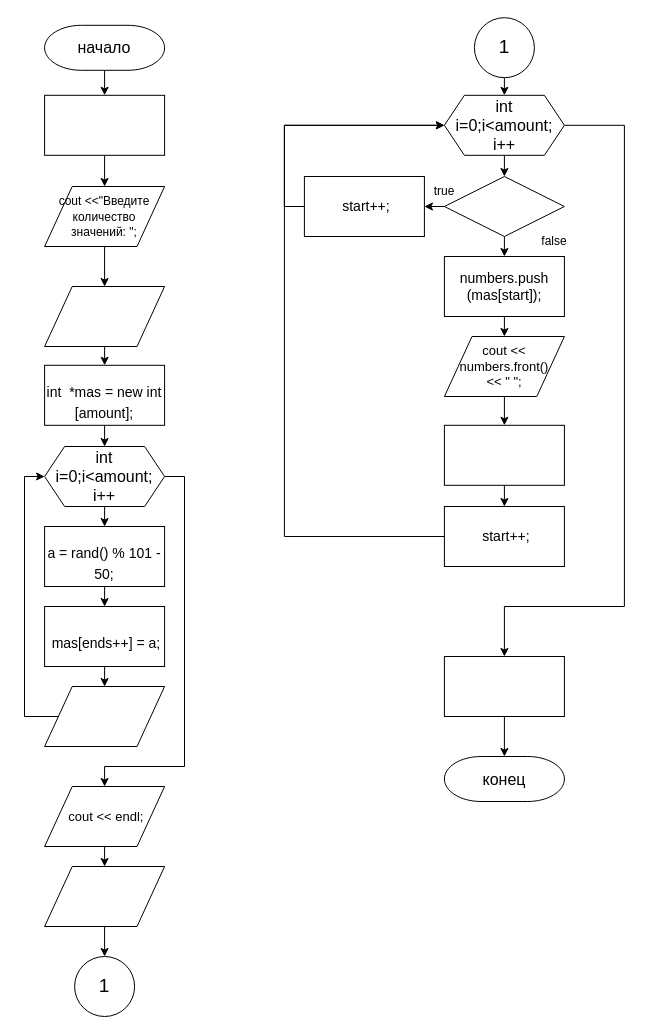
Image size: 650x1034. Some labels were removed from this diagram. The shapes that lost their labels are listed below. From the top down, each one's box as (x1, y1, x2, y2) in pixels, then its label:
(44, 94, 165, 155): srand(time(NULL)); queue <int> numbers; int amount, a, start = 0, ends = 0;
(443, 176, 564, 236): mas[start] % 2 == 0
(44, 286, 165, 346): cin >> amount;
(443, 424, 564, 485): numbers.pop();
(443, 656, 564, 716): delete [] mas;
(44, 686, 165, 746): cout << mas[i] << " ";
(44, 866, 165, 926): cout << "Без четных значений: " << endl;
